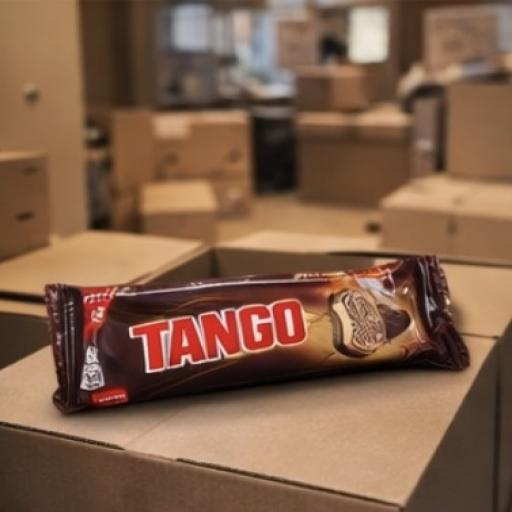tango: (32, 216, 484, 424)
